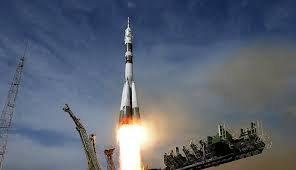ten_lua: (119, 18, 143, 127)
